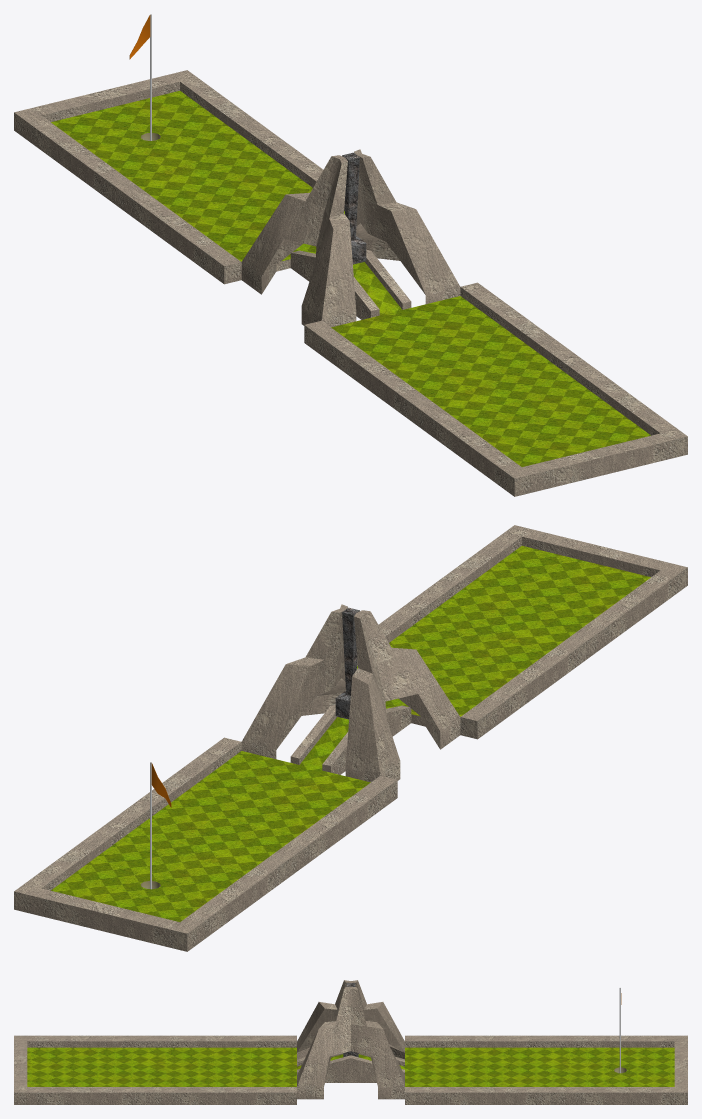
Rendered from course4_hole17.fbx.
3 views of the same model, one above another, from view 1: azimuth 30°, elevation 25°; view 2: azimuth 150°, elevation 25°; view 3: azimuth 270°, elevation 25° (orthographic). The views are drawn at different scales.
Parts seen in each view (by area): view 1: course4_hole17_walls, course4_hole17_ground, course4_hole17_pendulum; view 2: course4_hole17_walls, course4_hole17_ground, course4_hole17_pendulum; view 3: course4_hole17_walls, course4_hole17_ground.
Part boxes in pixels (x1,y1,x2,y2): course4_hole17_walls: [14, 70, 687, 496]; course4_hole17_ground: [51, 91, 650, 466]; course4_hole17_pendulum: [342, 152, 366, 264]; course4_hole17_walls: [14, 525, 687, 951]; course4_hole17_ground: [51, 545, 650, 921]; course4_hole17_pendulum: [335, 607, 359, 719]; course4_hole17_walls: [14, 980, 687, 1104]; course4_hole17_ground: [27, 1047, 674, 1086].
Size of the model in its own units: 100 by 77.57 by 500.
